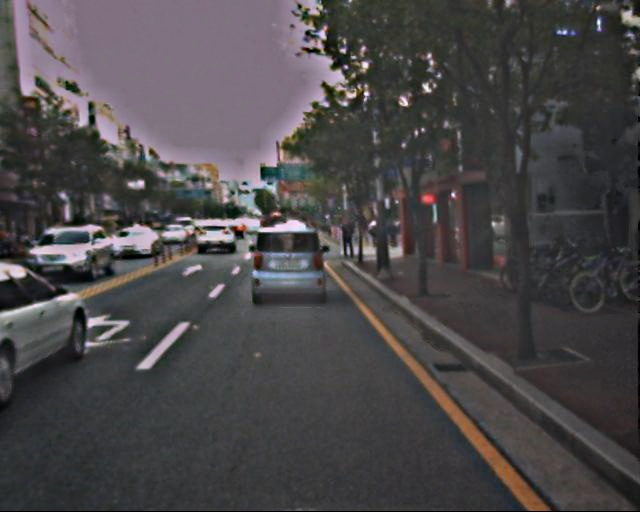person: (339, 214, 359, 263)
